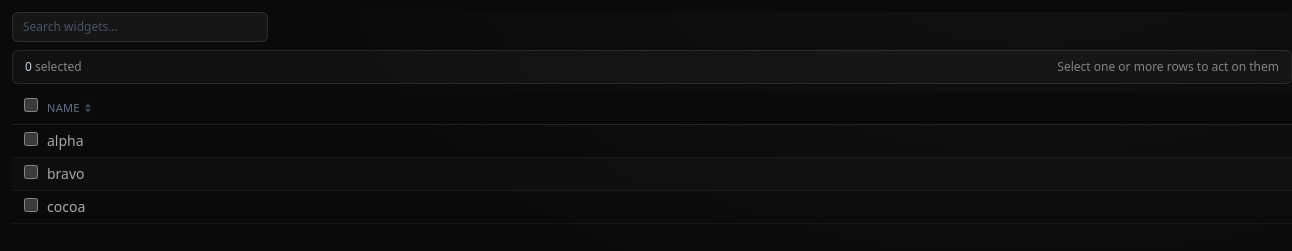
Test case: DataTable, row actions in one bar › a `single` verb is disabled for two rows, and says why
Click the checkbox named "Select alpha". click: {"x": 31, "y": 139}
box: [24,132,38,146]
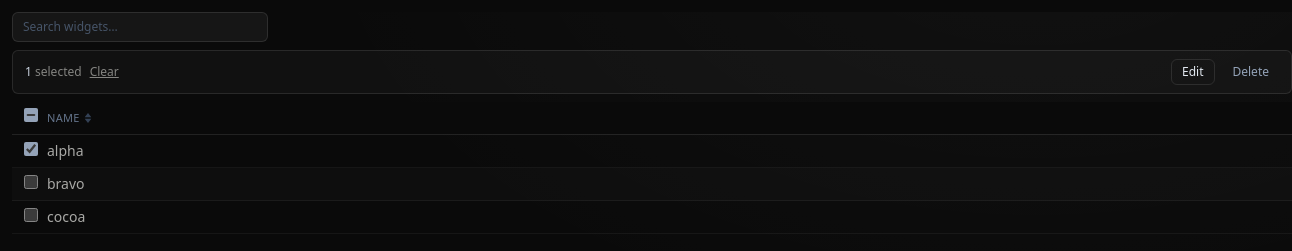
Expected: the button "Edit" is enabled, [1171,59,1214,85]
Click the checkbox named "Select cocoa". click: {"x": 31, "y": 215}
box: [24,208,38,222]
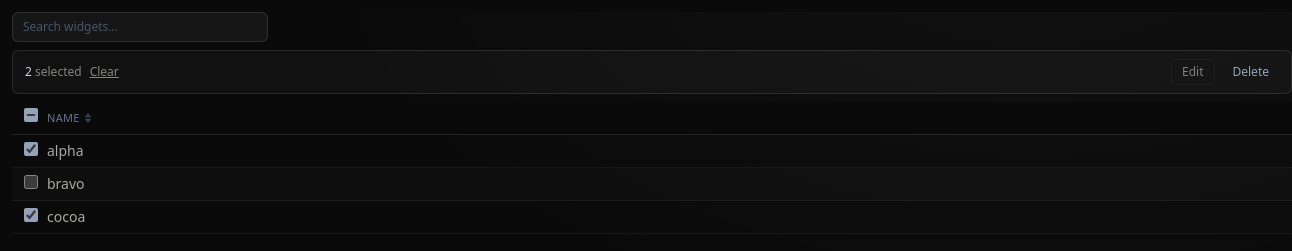
Expected: the button "Edit" is disabled, [1171,59,1214,85]
